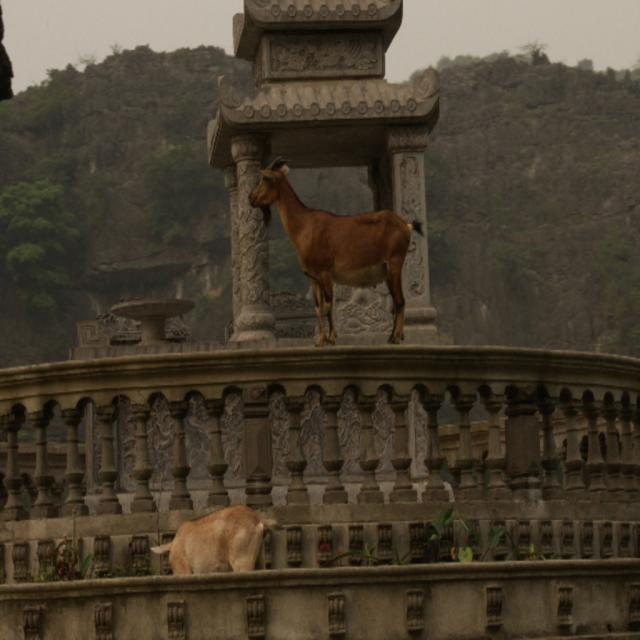Goat: (246, 148, 414, 344)
